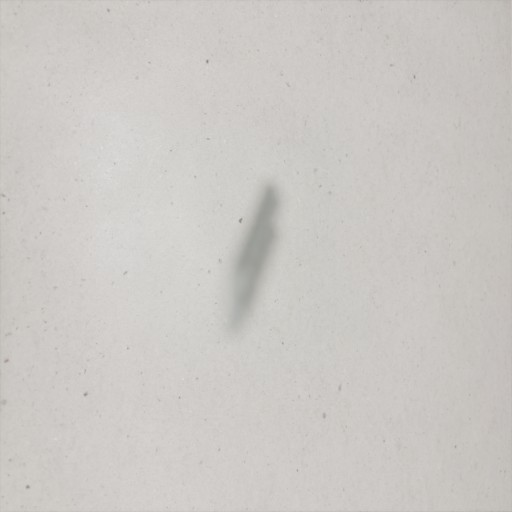lego: (224, 179, 284, 339)
